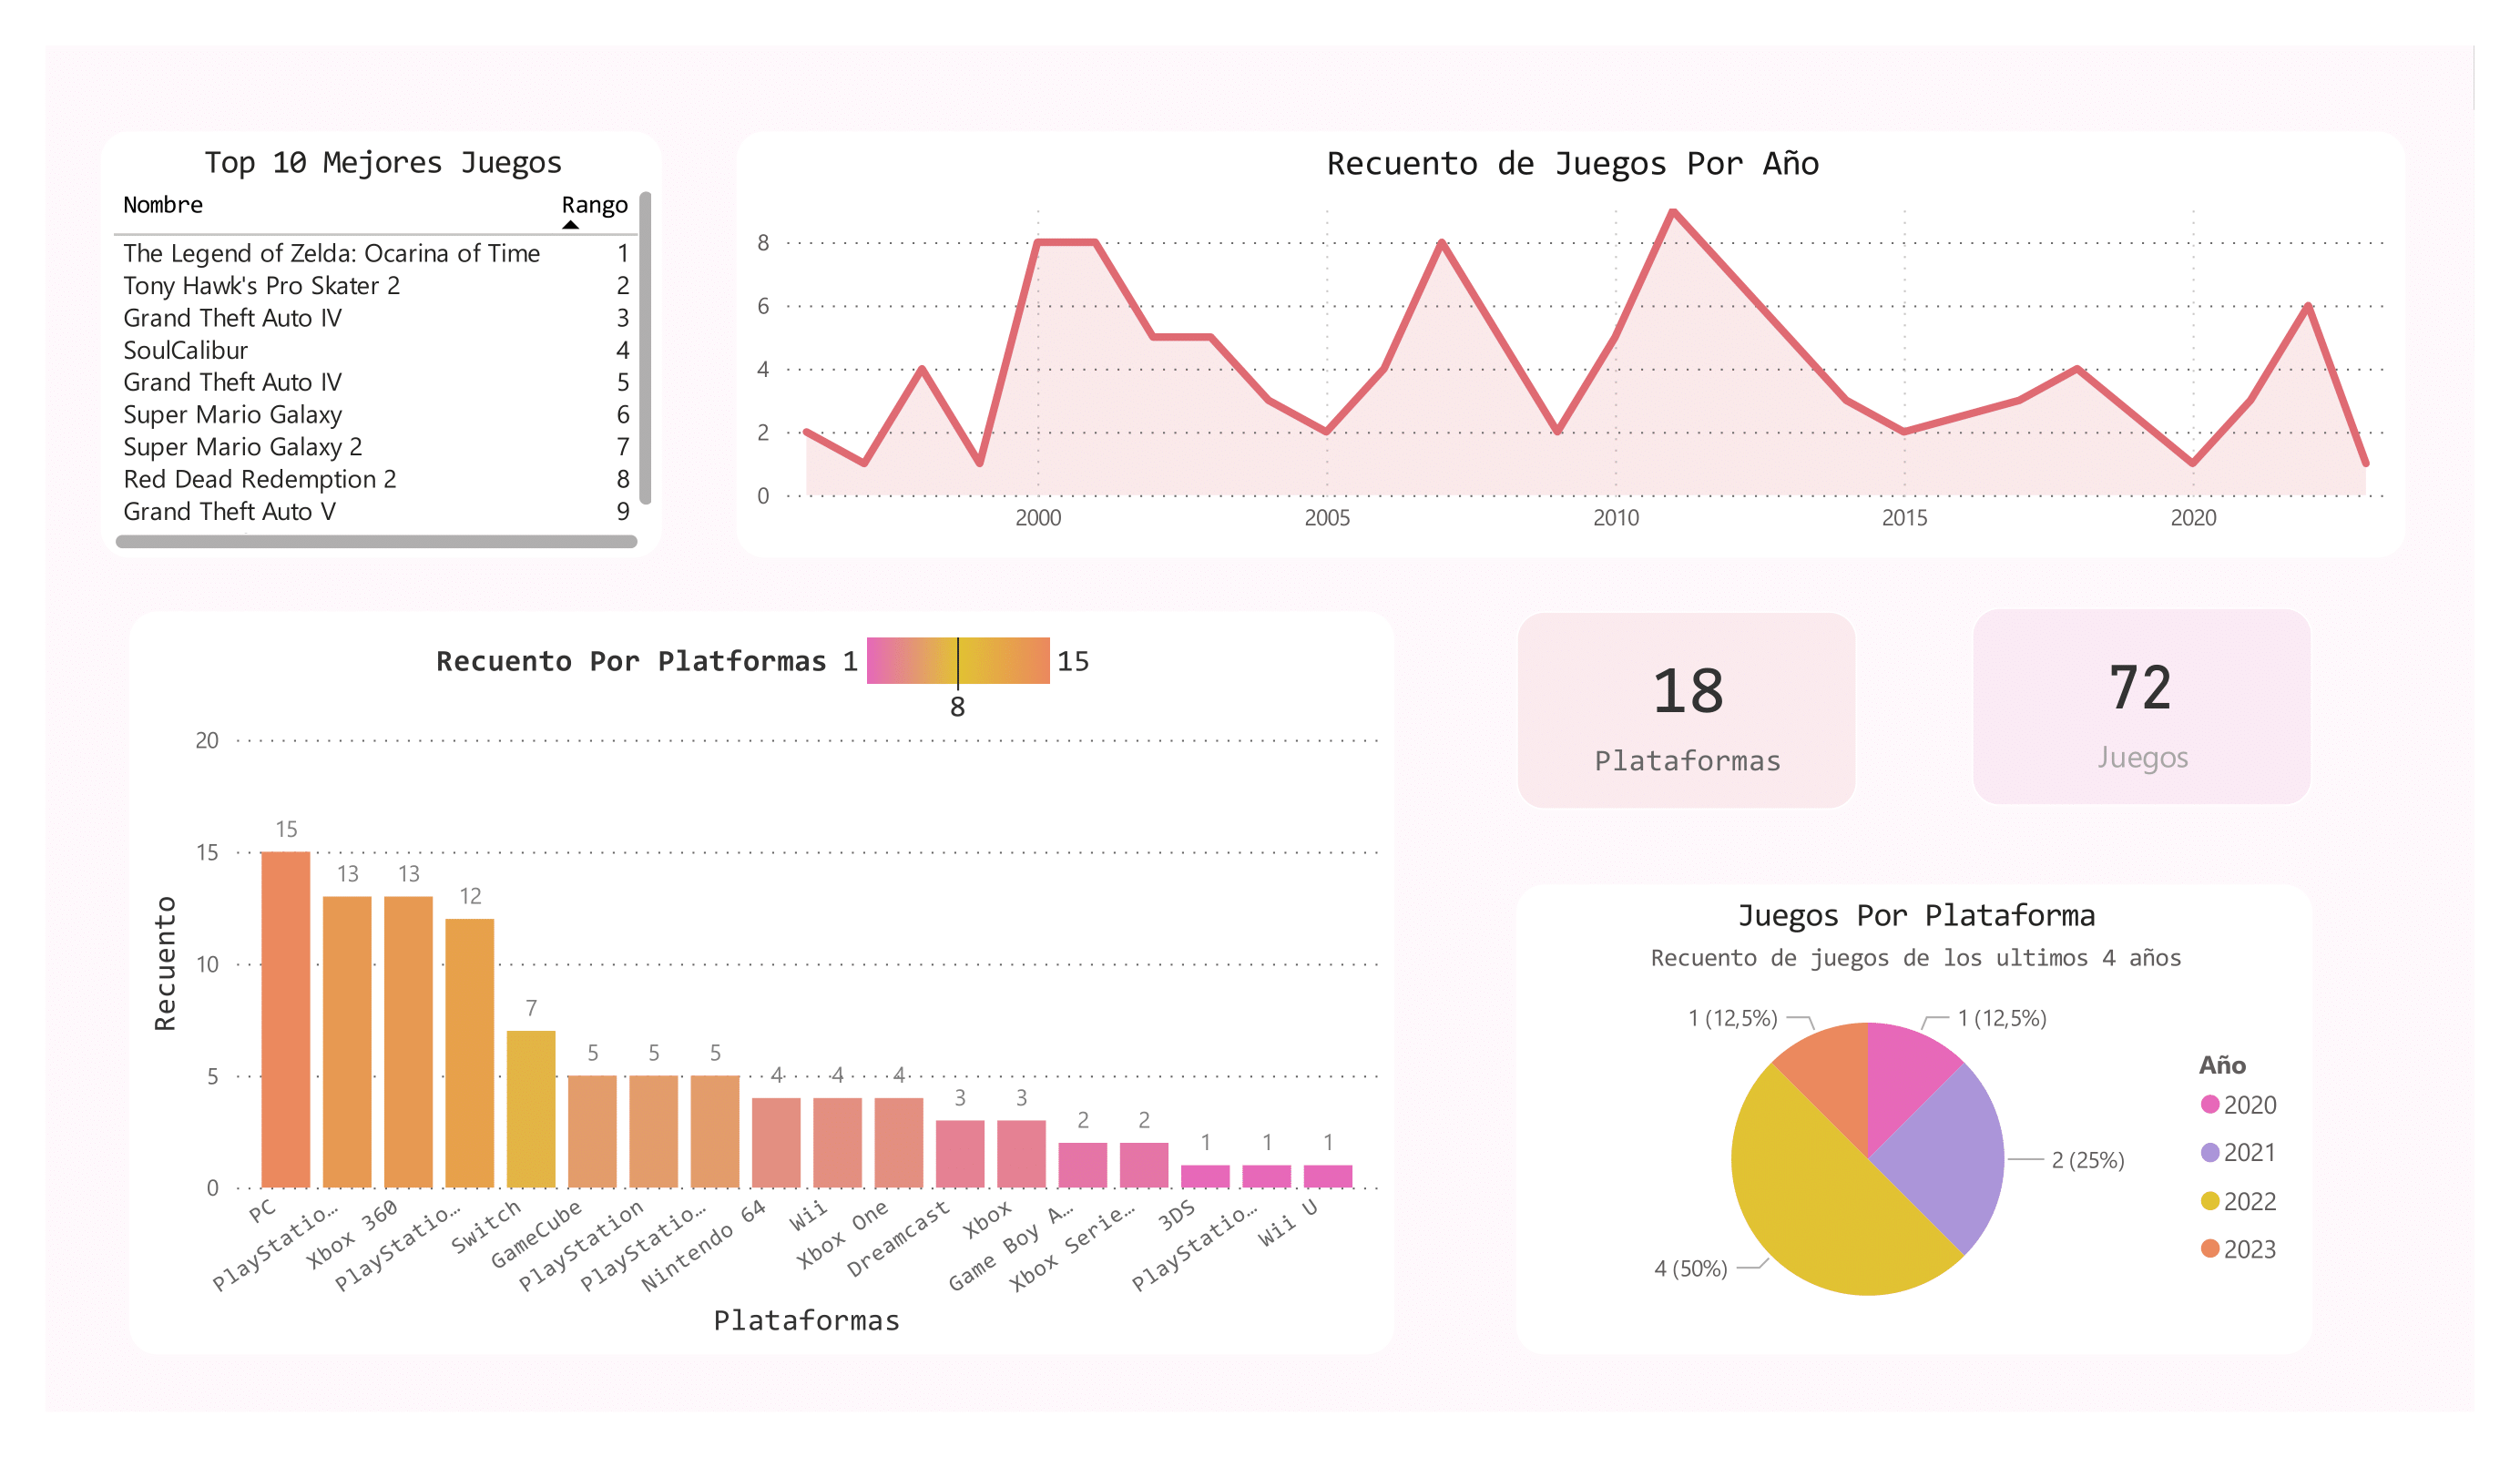

The dashboard page shown, as its layout file describes it:
{"tool":"powerbi","page":{"name":"Página 1","canvas":[1280,720],"ordinal":0},"visuals":[{"type":"columnChart","fields":{"Category":["data.Platform"],"Y":["CountNonNull(data.Title)"]},"box":[44.4,297.8,666.6,392.5],"z":0},{"type":"tableEx","title":"Top 10 Mejores Juegos","fields":{"Values":["data.Name","data.Rank"]},"box":[28.6,45,296.7,225.2],"z":1000},{"type":"areaChart","title":"Recuento de Juegos Por Año","fields":{"Category":["data.Date.Variación.Jerarquía de fechas.Año"],"Y":["CountNonNull(data.Name)"]},"box":[363.9,45.4,880.6,224.8],"z":2000},{"type":"advanceCardE03760C5AB684758B56AA29F9E6C257B","fields":{"mainMeasure":["Count(data.Platform)"]},"box":[775.1,297.8,180,105],"z":2001},{"type":"advanceCardE03760C5AB684758B56AA29F9E6C257B","fields":{"mainMeasure":["Count(data.Name)"]},"box":[1014.7,295.8,180,105],"z":2002},{"type":"pieChart","title":"Juegos Por Plataforma","fields":{"Category":["data.Date.Variación.Jerarquía de fechas.Año"],"Y":["Count(data.Platform)"]},"box":[775.1,441.8,420.1,248.5],"z":2003}]}

Visuals, with their boxes in screenshot pixels (x1, y1, x2, y2):
columnChart - data.Platform x CountNonNull(data.Title): bbox(130, 610, 1394, 1355)
"Top 10 Mejores Juegos" tableEx: bbox(100, 131, 663, 558)
"Recuento de Juegos Por Año" areaChart: bbox(736, 132, 2407, 558)
advanceCardE03760C5AB684758B56AA29F9E6C257B - Count(data.Platform): bbox(1516, 610, 1858, 810)
advanceCardE03760C5AB684758B56AA29F9E6C257B - Count(data.Name): bbox(1971, 606, 2312, 806)
"Juegos Por Plataforma" pieChart: bbox(1516, 883, 2313, 1355)
